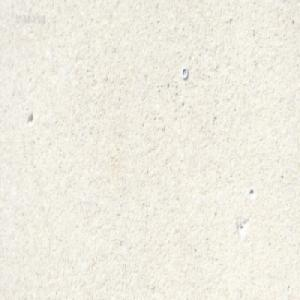Washer: (180, 65, 188, 79)
